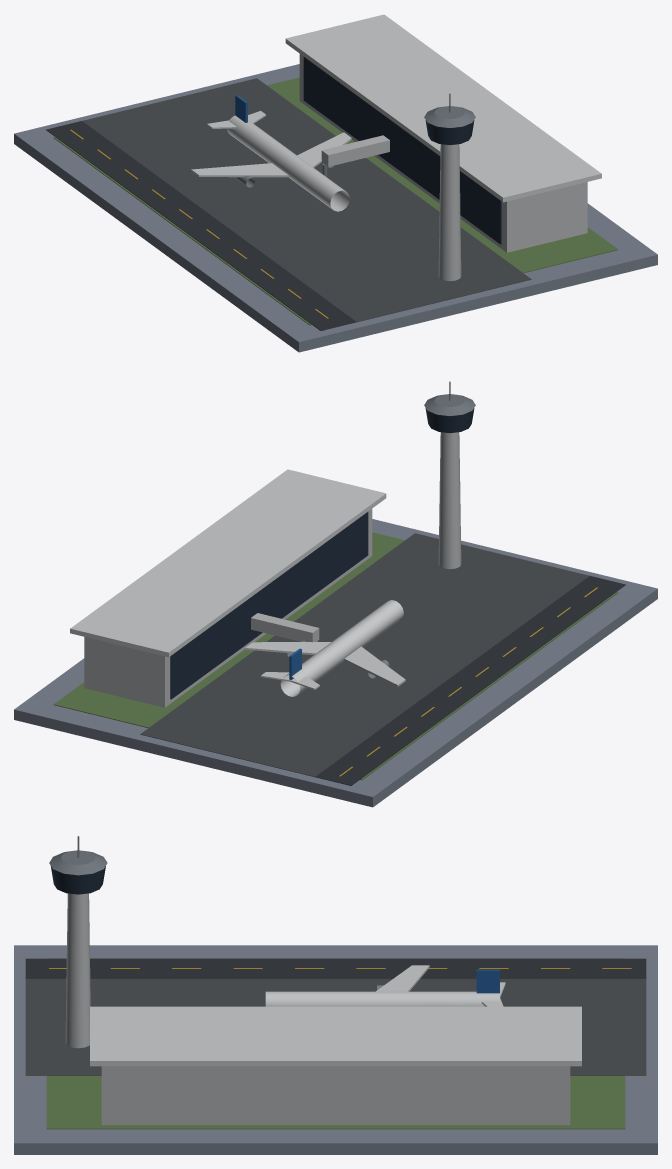
The model's file is airport.glb.
3 views of the same model, one above another, from view 1: azimuth 30°, elevation 25°; view 2: azimuth 150°, elevation 25°; view 3: azimuth 270°, elevation 25° (orthographic). The views are drawn at different scales.
Parts seen in each view (by area): view 1: airport; view 2: airport; view 3: airport.
Part boxes in pixels (<box>): airport: <box>14,14,657,352</box>; airport: <box>14,381,657,807</box>; airport: <box>14,836,657,1154</box>.
Size of the model in its own units: 80 by 41.35 by 110.
